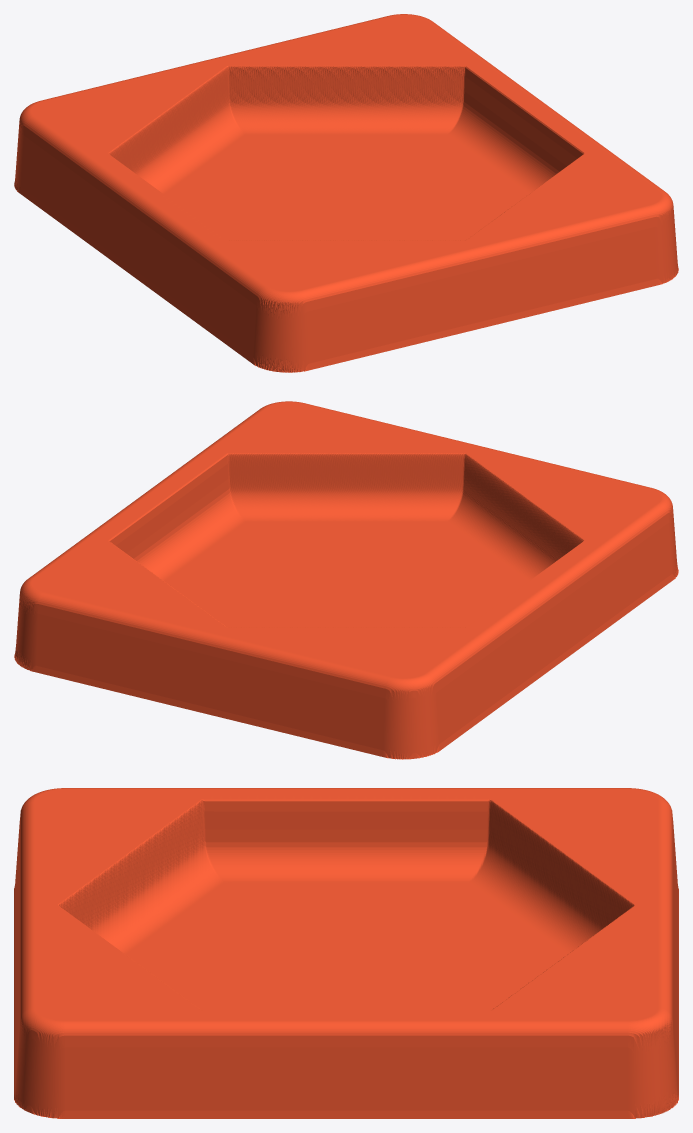
The model's file is mold.glb.
3 renders of one model, top to bottom at view 1: azimuth 30°, elevation 25°; view 2: azimuth 150°, elevation 25°; view 3: azimuth 270°, elevation 25°, orthographic. The views are drawn at different scales.
Parts seen in each view (by area): view 1: geometry_0; view 2: geometry_0; view 3: geometry_0.
Part boxes in pixels (x1,y1,x2,y2): geometry_0: [14, 14, 678, 372]; geometry_0: [14, 401, 678, 759]; geometry_0: [14, 788, 678, 1118].
Bounding box in the file's own units: 0.1042 × 0.0175 × 0.1178.
